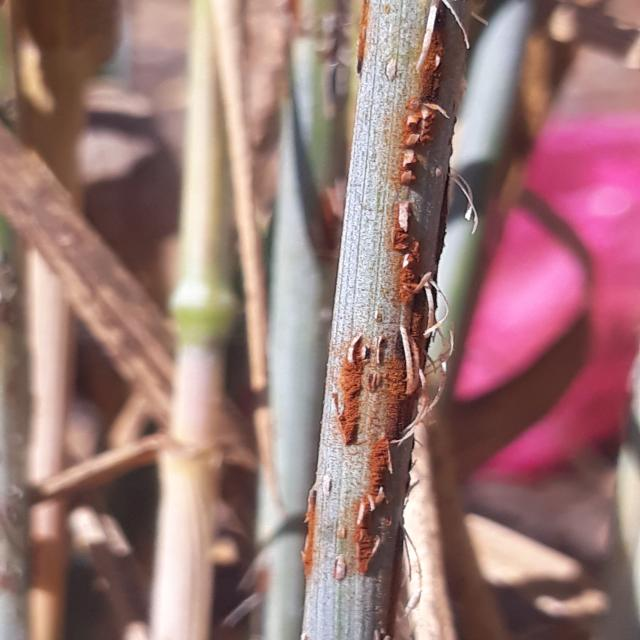black_stem_rust: (277, 1, 529, 640)
